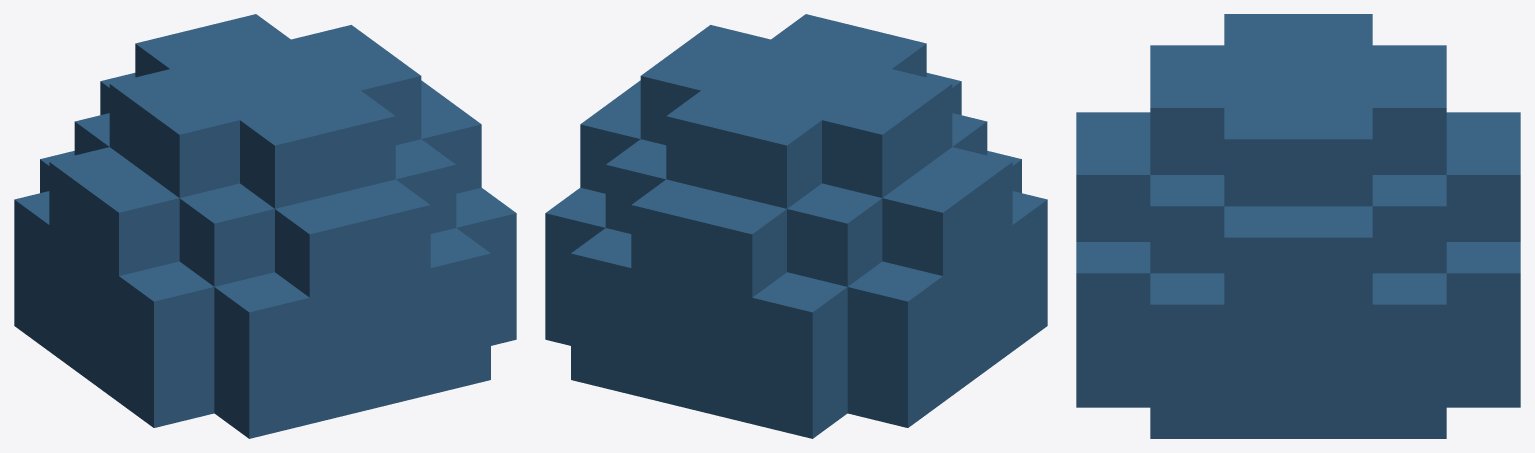
The model's file is Slime1_F1.obj.
3 renders of one model, left to right at view 1: azimuth 30°, elevation 25°; view 2: azimuth 150°, elevation 25°; view 3: azimuth 270°, elevation 25°, orthographic. The views are drawn at different scales.
Bounding box in the file's own units: 0.6 × 0.4 × 0.6.
1 material, 1 textured.
